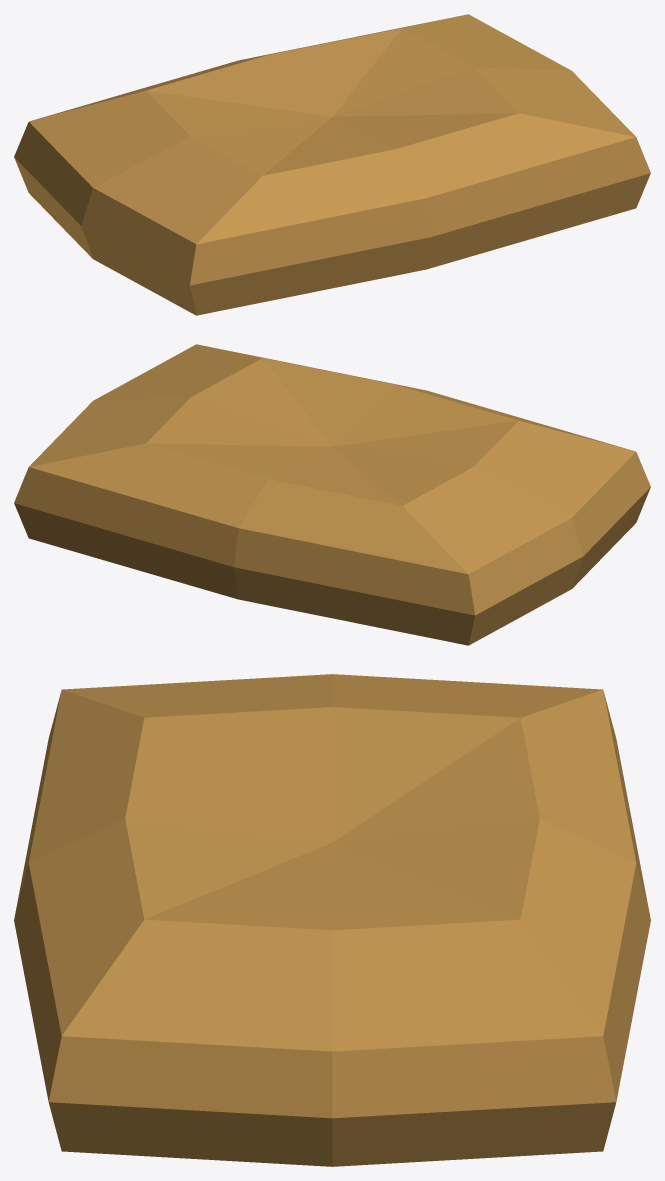
Rendered from Itr_Bed_Pillow_10.FBX.
3 views of the same model, one above another, from view 1: azimuth 30°, elevation 25°; view 2: azimuth 150°, elevation 25°; view 3: azimuth 270°, elevation 25° (orthographic). The views are drawn at different scales.
Parts seen in each view (by area): view 1: Itr_Bed_Pillow_10; view 2: Itr_Bed_Pillow_10; view 3: Itr_Bed_Pillow_10.
Part boxes in pixels (x1,y1,x2,y2): Itr_Bed_Pillow_10: (14, 14, 650, 315); Itr_Bed_Pillow_10: (14, 344, 650, 645); Itr_Bed_Pillow_10: (14, 674, 650, 1166).
Size of the model in its own units: 21.39 by 4.02 by 14.55.
